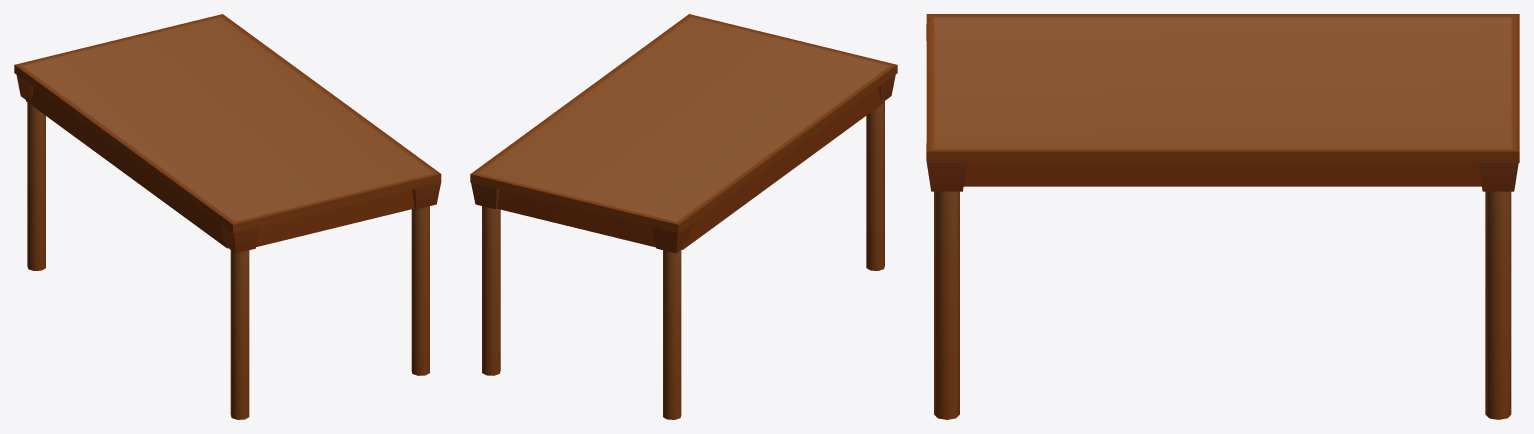
Rendered from ST_Kitchentable.fbx.
3 views of the same model, side by side, from view 1: azimuth 30°, elevation 25°; view 2: azimuth 150°, elevation 25°; view 3: azimuth 270°, elevation 25° (orthographic). The views are drawn at different scales.
Parts seen in each view (by area): view 1: ST_Kitchentable; view 2: ST_Kitchentable; view 3: ST_Kitchentable.
Boxes of the visible parts, left/top/right/bottom form: ST_Kitchentable: left=14, top=14, right=441, bottom=419; ST_Kitchentable: left=470, top=14, right=897, bottom=419; ST_Kitchentable: left=926, top=14, right=1519, bottom=419.
Size of the model in its own units: 85.11 by 78.14 by 155.
